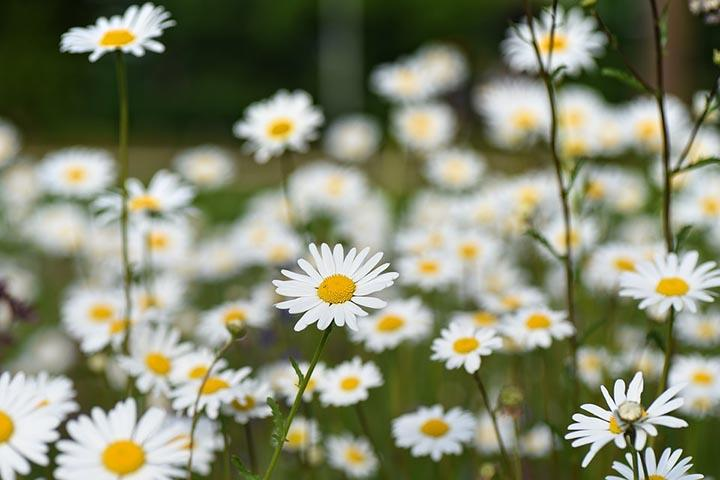chamomile: (589, 376, 710, 480), (268, 250, 397, 333), (51, 410, 201, 480), (627, 240, 720, 323), (95, 158, 195, 228), (66, 16, 189, 71), (234, 84, 317, 165), (0, 378, 51, 480), (498, 300, 579, 356), (314, 346, 369, 419), (119, 348, 210, 391), (63, 304, 141, 354), (409, 240, 463, 298), (403, 416, 473, 459), (435, 318, 486, 377)
